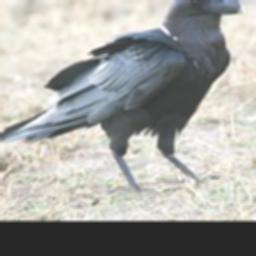Crow: (0, 0, 247, 193)
